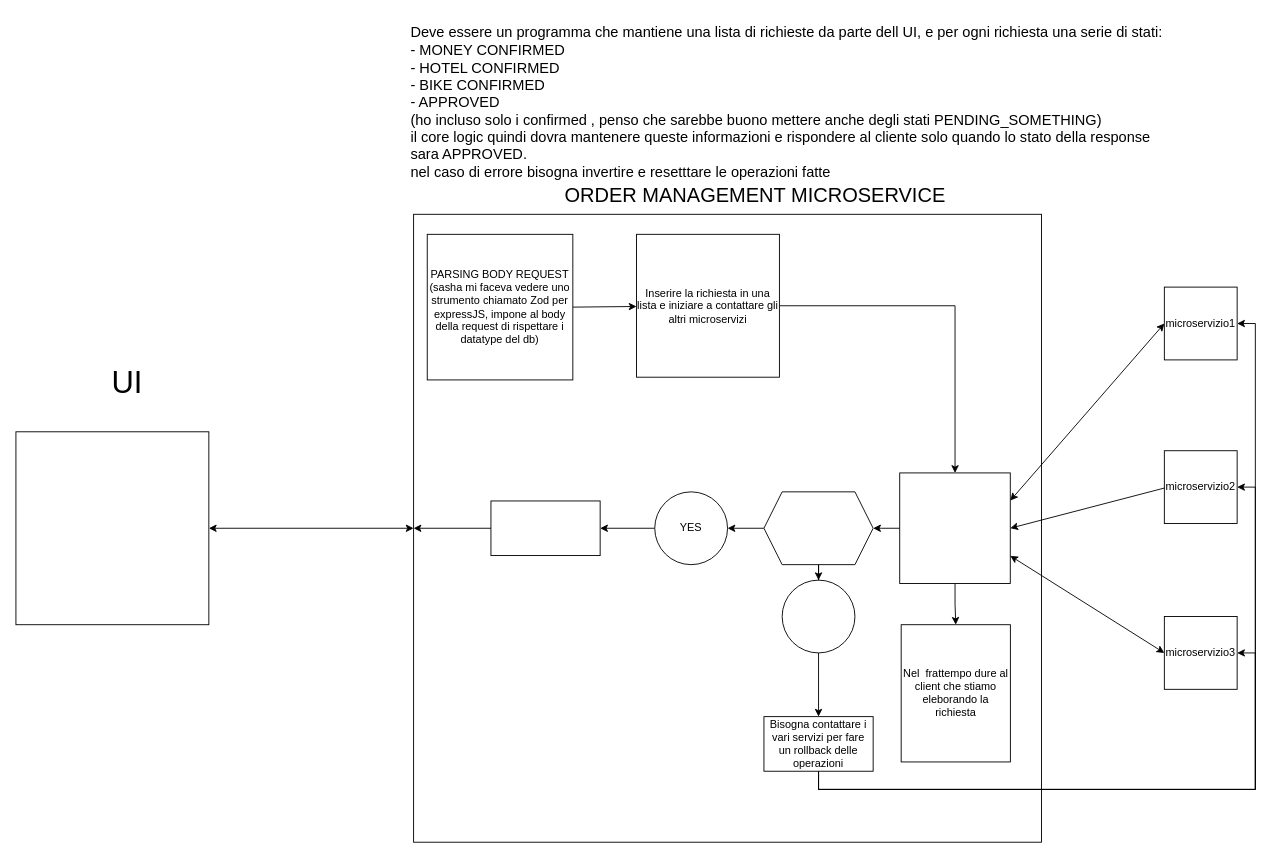
The diagram is 1279 pixels wide and 858 high, and some of its shapes have lost their labels. Each missing label, with the box of its shape:
APPROVED: (763, 491, 873, 565)
Mantenere uno stato per la richiesta: (899, 472, 1010, 583)
NO: (781, 579, 855, 653)
Rispondere al client con la conferma: (490, 500, 600, 556)
